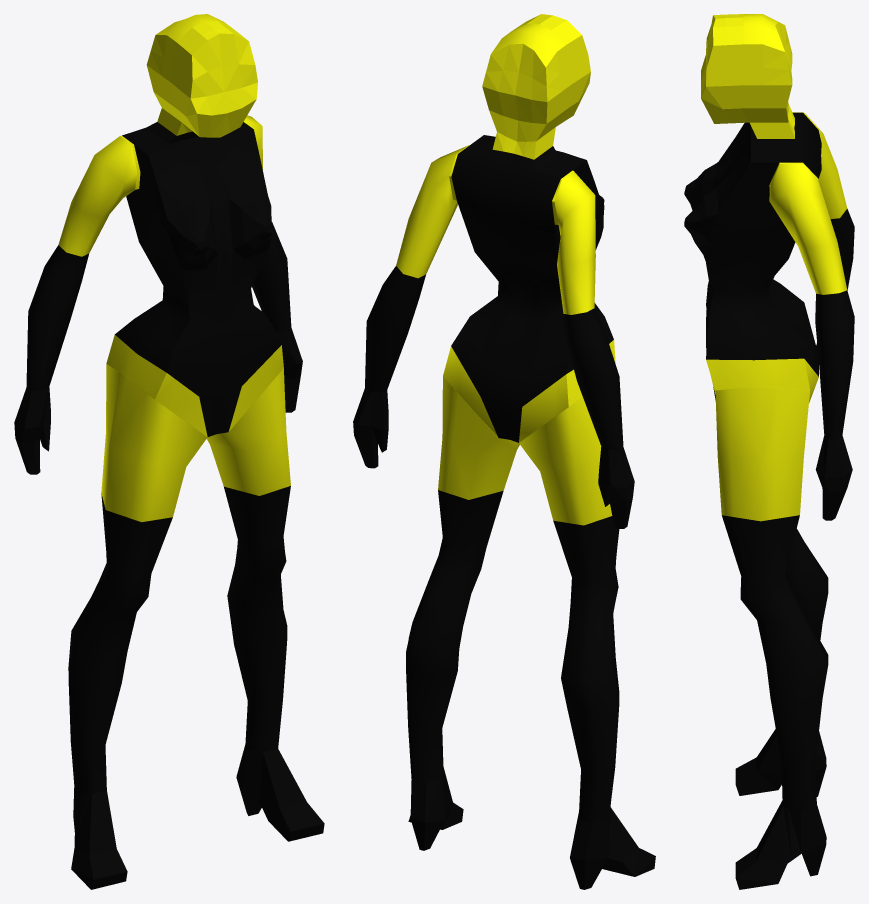
The model's file is dom_v1 (1).fbx.
The picture shows the model from 3 angles, left to right: view 1: azimuth 30°, elevation 25°; view 2: azimuth 150°, elevation 25°; view 3: azimuth 270°, elevation 25°; orthographic projection. The views are drawn at different scales.
Parts seen in each view (by area): view 1: Box002; view 2: Box002; view 3: Box002.
Part boxes in pixels (x1=…): Box002: x1=14, y1=14, x2=324, y2=889; Box002: x1=353, y1=14, x2=655, y2=889; Box002: x1=684, y1=14, x2=854, y2=889.
Bounding box in the file's own units: 11.54 × 33.03 × 6.24.
